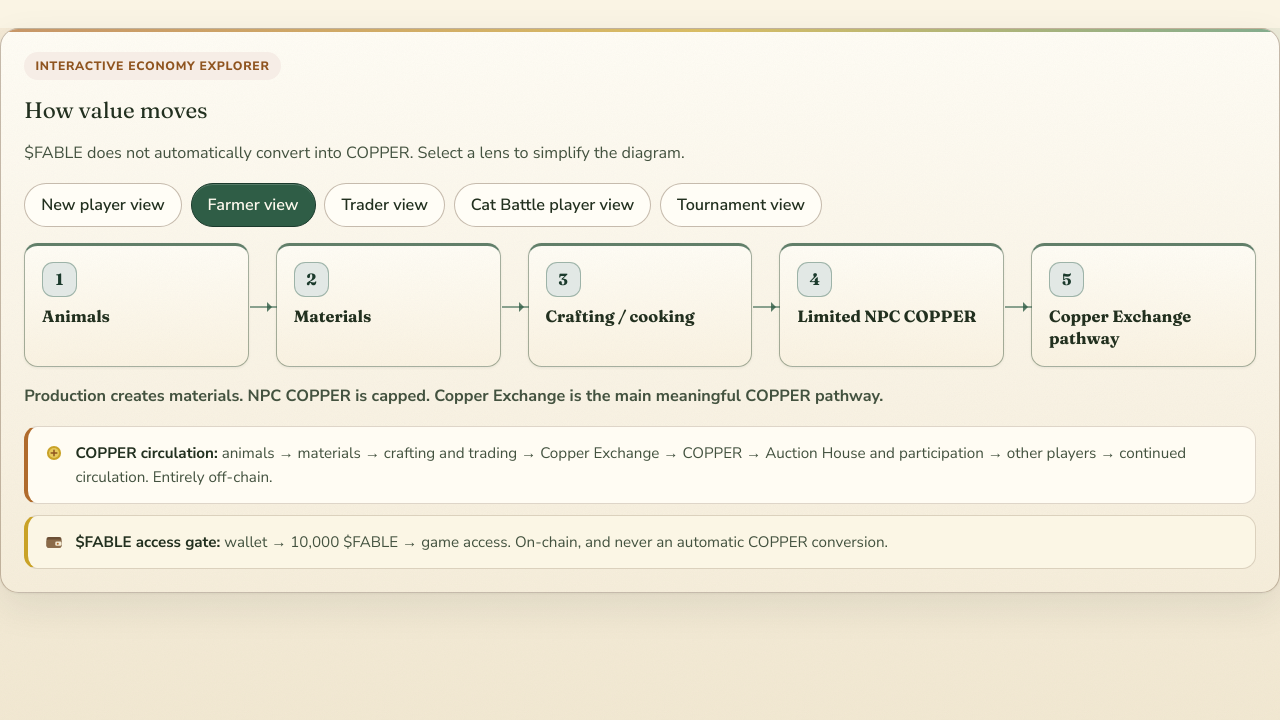
Test: economy explorer › switches lenses without losing the flow structure
Click the tab "Trader view": (385, 205) [324,183,445,227]
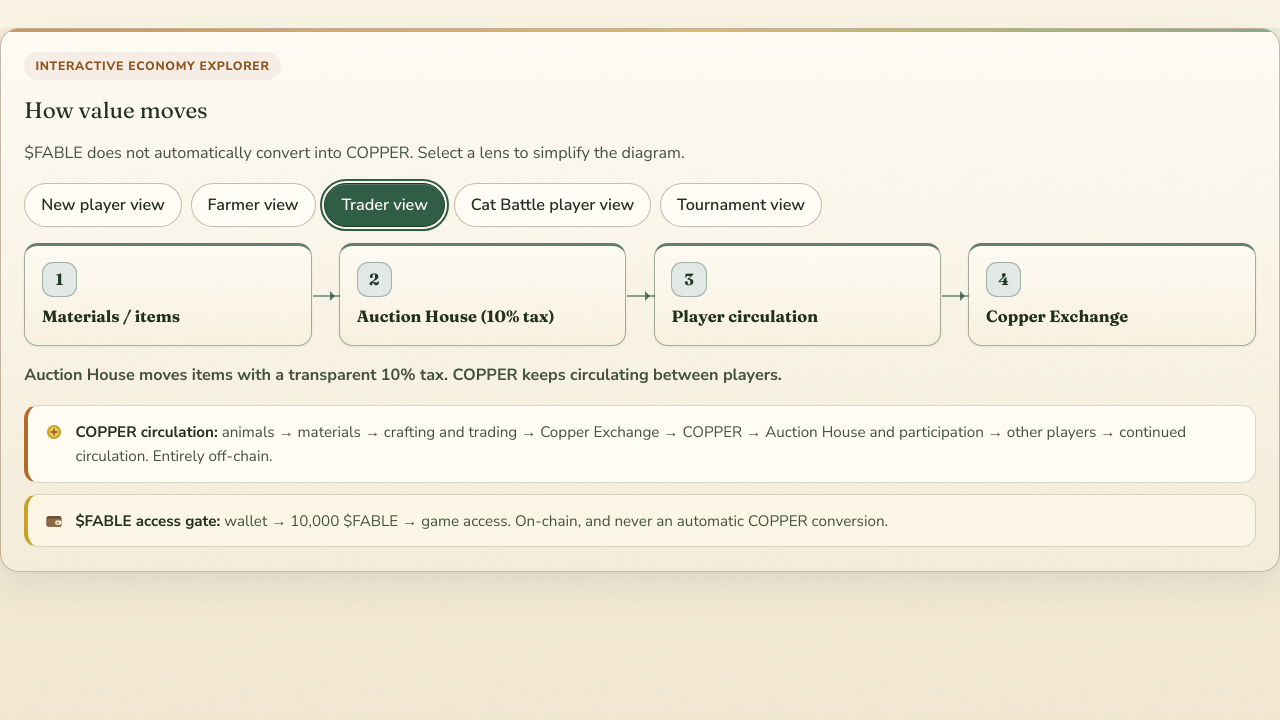
Check: the number of lists with class "flow-diagram" is 1, box [24,243,1256,346]
Check: the text "Auction House (10% tax)" is shown, box [357,306,555,328]
